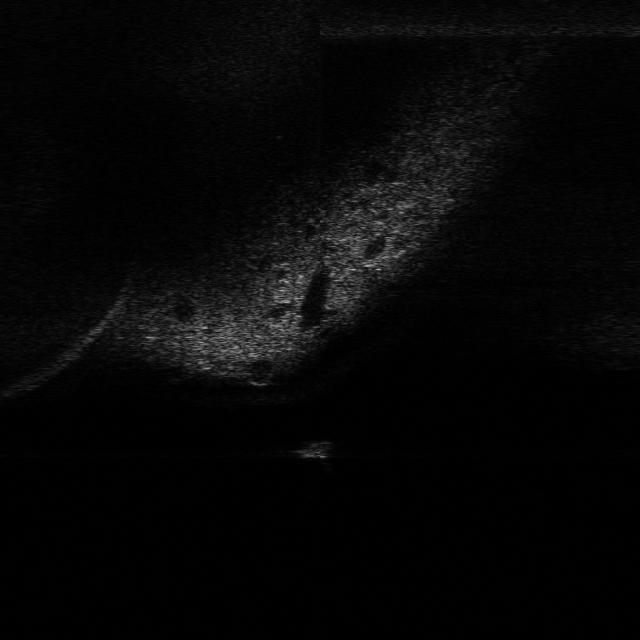cube: (287, 436, 339, 466)
